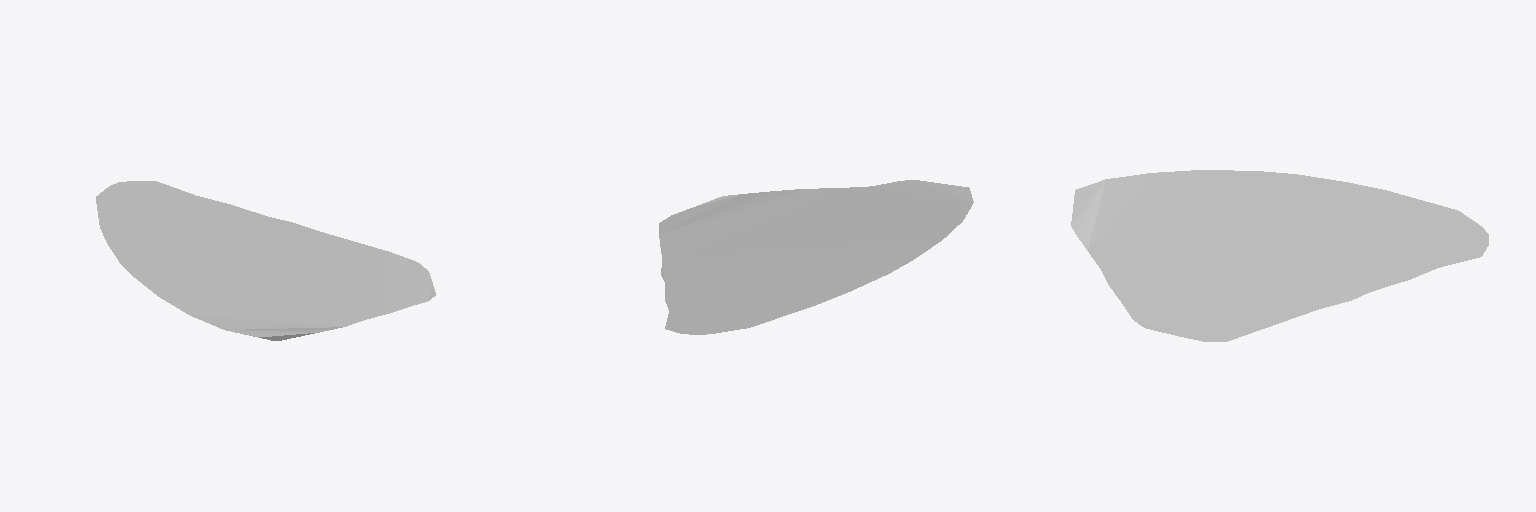
The model's file is moth_wing_r1.obj.
3 views of the same model, side by side, from view 1: azimuth 30°, elevation 25°; view 2: azimuth 150°, elevation 25°; view 3: azimuth 270°, elevation 25° (orthographic).
Visible parts, largest first — view 1: Cylinder.003_Cylinder.005; view 2: Cylinder.003_Cylinder.005; view 3: Cylinder.003_Cylinder.005.
Boxes of the visible parts, box(x1,y1,x2,y2) form: Cylinder.003_Cylinder.005: box(96, 181, 435, 340); Cylinder.003_Cylinder.005: box(659, 180, 973, 334); Cylinder.003_Cylinder.005: box(1071, 170, 1488, 341).
Bounding box in the file's own units: 2 × 0.2837 × 2.68.